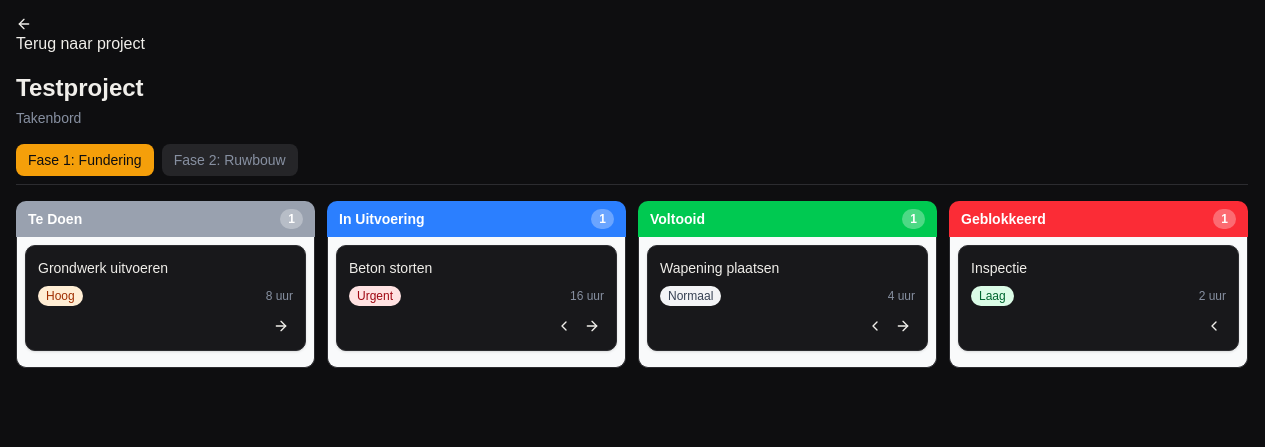
Test: KanbanBoardPage › dismisses error banner when close button is clicked
Expected: the text "Grondwerk uitvoeren" is shown, [38, 260, 168, 276]
Click the button named "→ vooruit" below "Hoog" at x=281, y=326, box [269, 314, 293, 338]
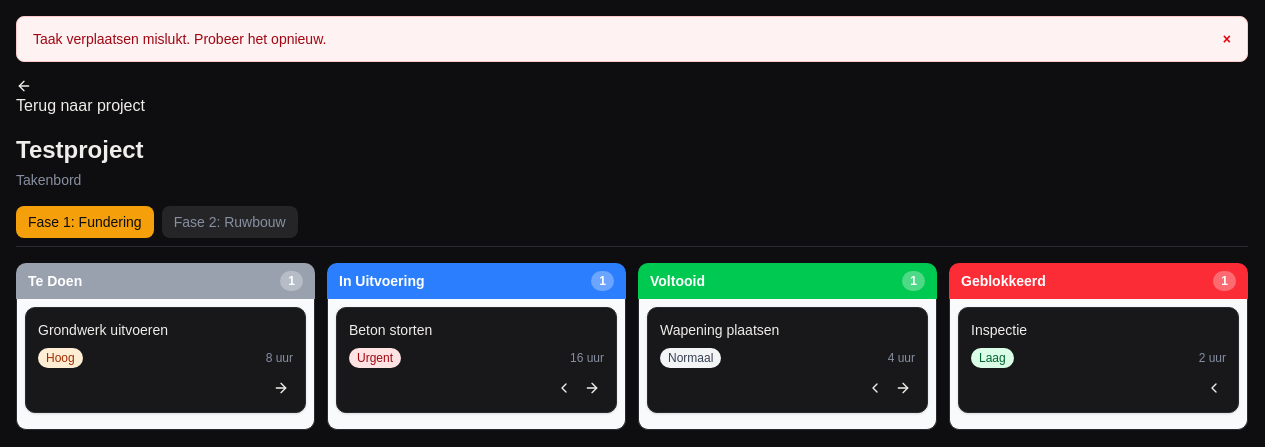
Expected: the message "Taak verplaatsen mislukt. Probeer het opnieuw. ×" is shown, [16, 16, 1248, 62]
Click the button named "sluiten" at x=1227, y=39, box [1223, 29, 1231, 49]
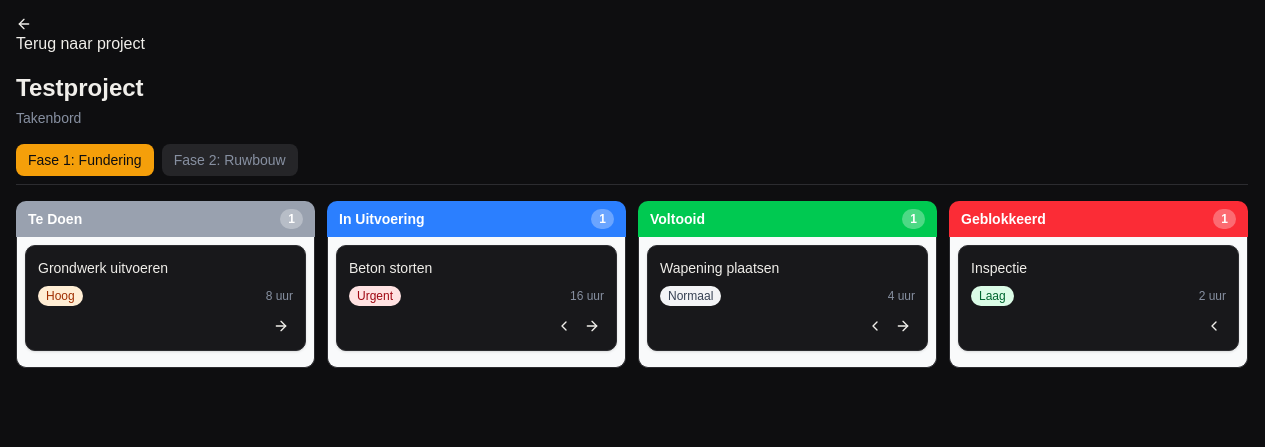
Expected: the message "Taak verplaatsen mislukt. Probeer het opnieuw. ×" is gone
